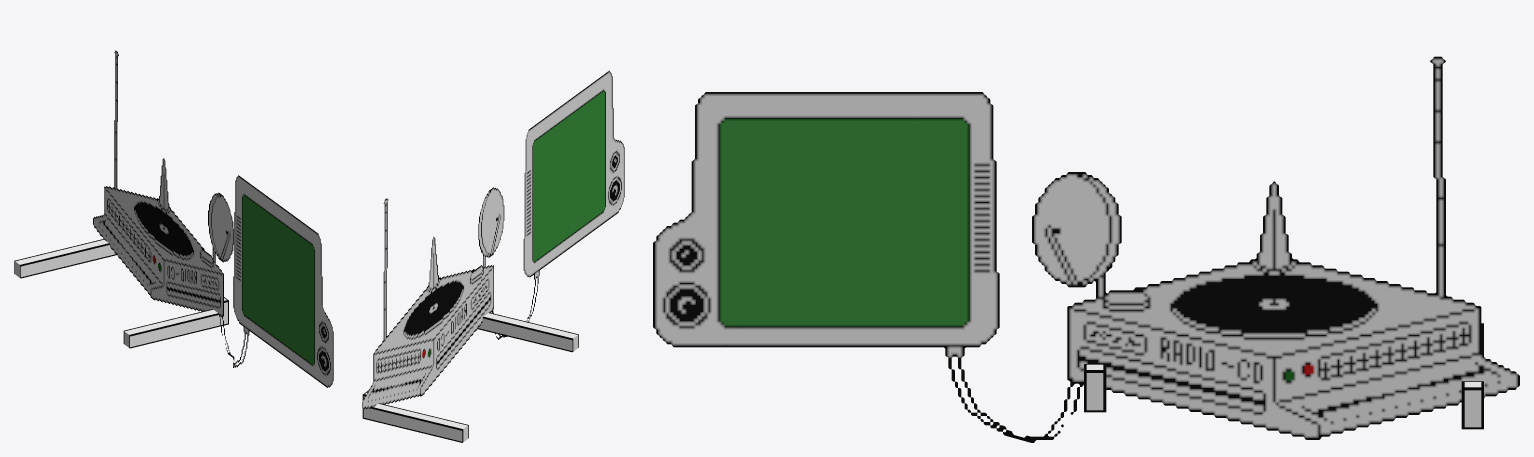
File: RADIO.fbx
The picture shows the model from 3 angles, left to right: view 1: azimuth 30°, elevation 25°; view 2: azimuth 150°, elevation 25°; view 3: azimuth 270°, elevation 25°; orthographic projection. The views are drawn at different scales.
Parts seen in each view (by area): view 1: Plane, Cube; view 2: Plane, Cube; view 3: Plane, Cube.
Part boxes in pixels (x1=…): Plane: x1=93, y1=50, x2=333, y2=387; Cube: x1=14, y1=239, x2=228, y2=348; Plane: x1=362, y1=70, x2=624, y2=409; Cube: x1=362, y1=312, x2=578, y2=442; Plane: x1=653, y1=56, x2=1519, y2=442; Cube: x1=1084, y1=323, x2=1483, y2=429.
Size of the model in its own units: 43.32 by 102 by 190.
